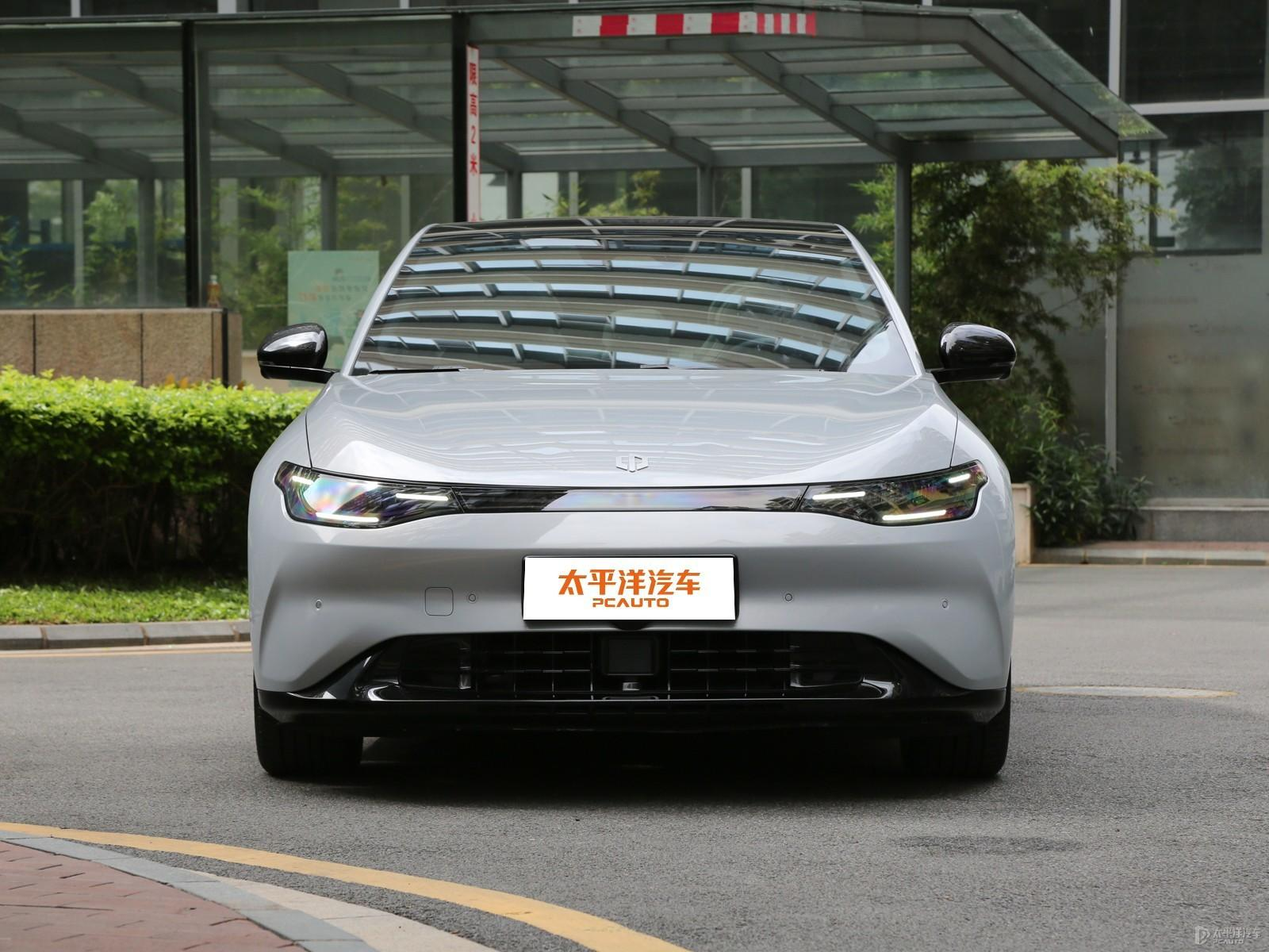LEAPMOTOR: (615, 451, 650, 474)
